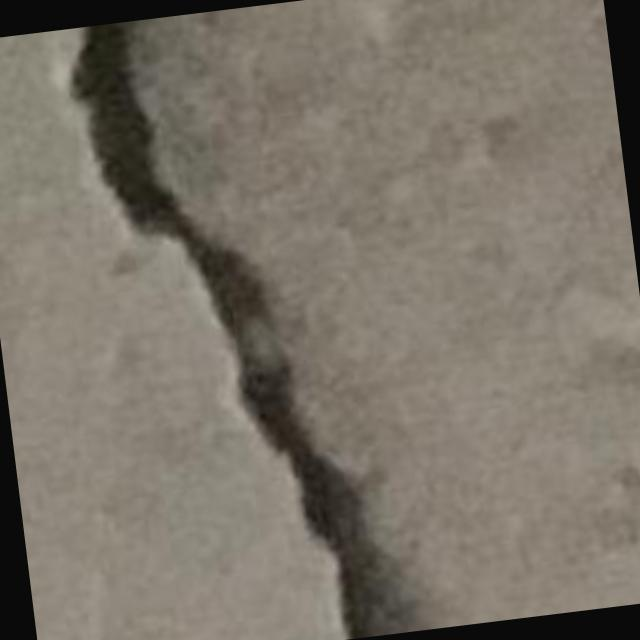crack: (70, 21, 405, 638)
